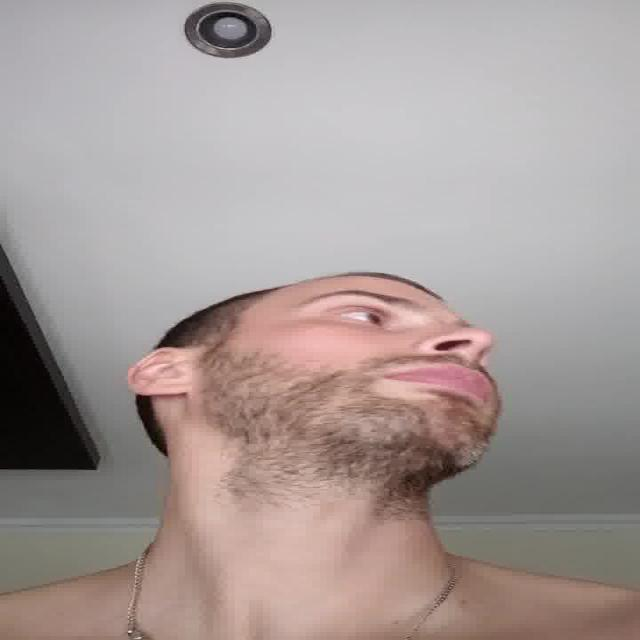earlobe: (144, 382, 197, 398)
eye: (328, 306, 391, 329)
nose: (426, 339, 491, 371)
wholeear: (131, 346, 197, 398)
